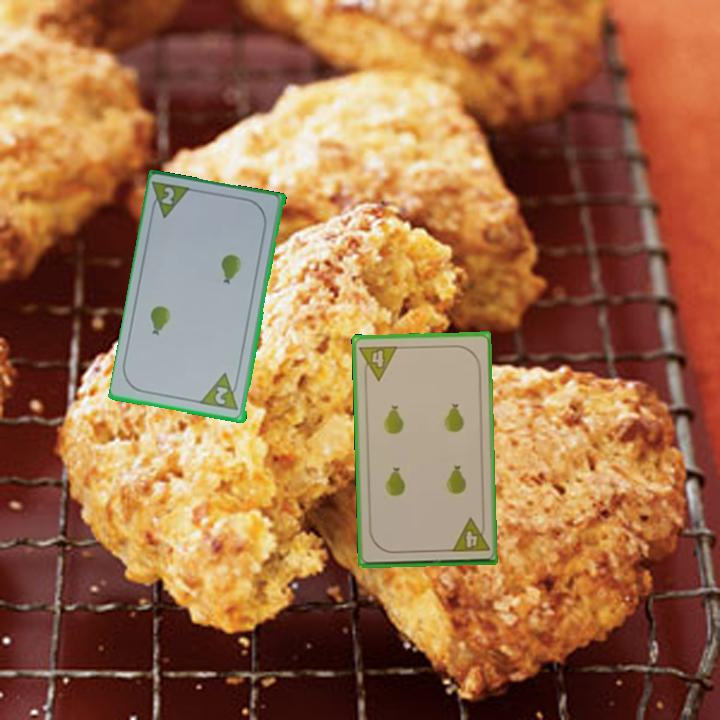2p: (147, 178, 195, 222), (211, 383, 232, 408)
4p: (356, 342, 400, 383), (448, 515, 492, 555)
